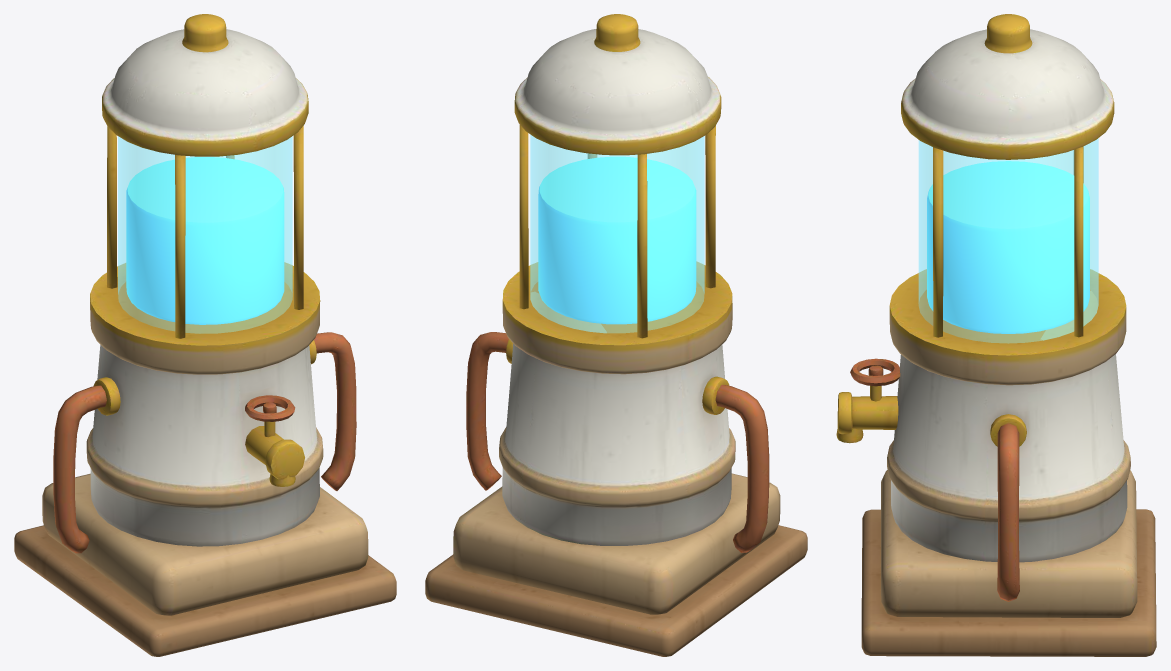
Rendered from water-condenser.glb.
3 views of the same model, side by side, from view 1: azimuth 30°, elevation 25°; view 2: azimuth 150°, elevation 25°; view 3: azimuth 270°, elevation 25° (orthographic). The views are drawn at different scales.
Parts seen in each view (by area): view 1: body, tank, water, lid, valve; view 2: body, tank, water, lid; view 3: body, tank, water, lid, valve.
Boxes of the visible parts, left/top/right/bottom form: body: left=14, top=126, right=396, bottom=656; tank: left=118, top=136, right=292, bottom=333; water: left=126, top=157, right=284, bottom=324; lid: left=102, top=14, right=308, bottom=156; valve: left=245, top=395, right=304, bottom=486; body: left=425, top=125, right=807, bottom=656; tank: left=530, top=134, right=704, bottom=333; water: left=538, top=156, right=696, bottom=324; lid: left=514, top=14, right=721, bottom=155; body: left=861, top=146, right=1156, bottom=656; tank: left=918, top=138, right=1098, bottom=343; water: left=927, top=161, right=1089, bottom=333; lid: left=901, top=14, right=1114, bottom=159; valve: left=836, top=358, right=900, bottom=443.
Size of the model in its own units: 0.7552 by 1.35 by 0.6755.
7 materials, 5 textured.
